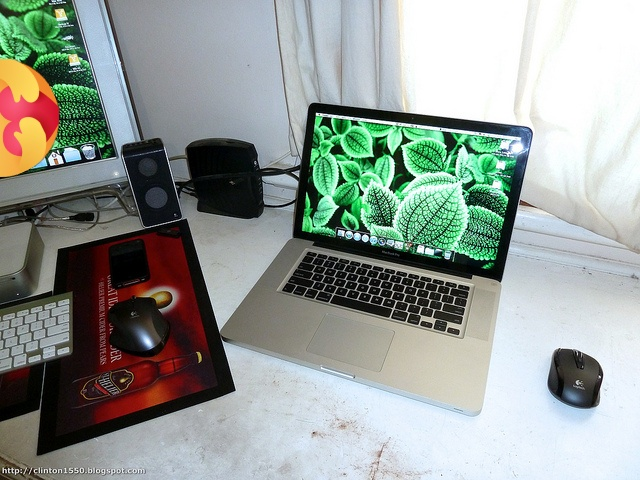care: (0, 59, 59, 177)
